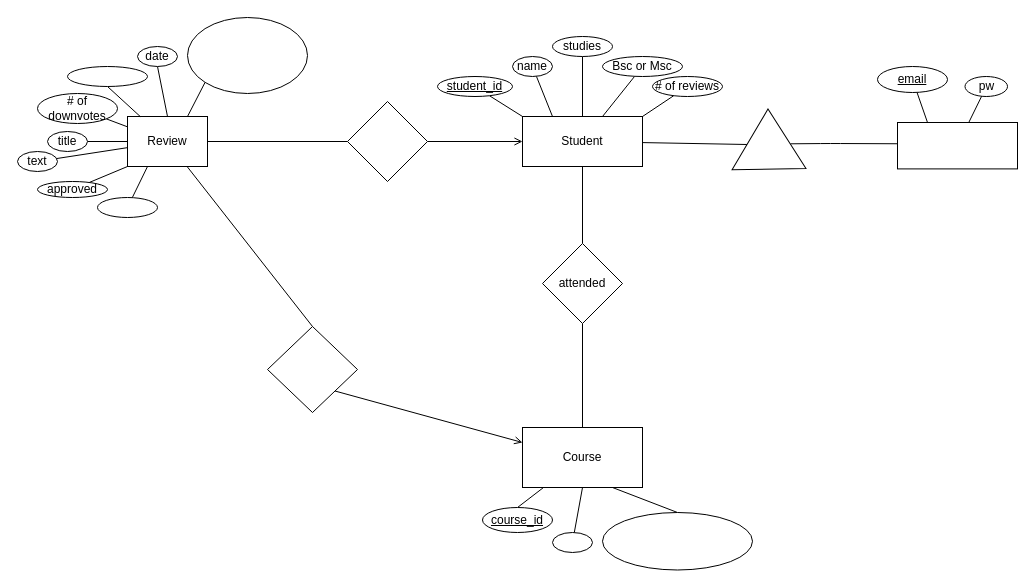
This 1035x588 diagram has some shape labels left out. The centre of each missing label's shape, as x and y in pixels:
# of upvotes: point 107,76
attribute for Helpfulness, Easiness, Clarity, and Workload: point 247,55
has: point 312,369
IS A: point 768,138
Refer to README.md for the rest of the attributes: point 677,541
review_id: point 127,207
User: point 957,145
writes: point 387,141
year: point 572,542
